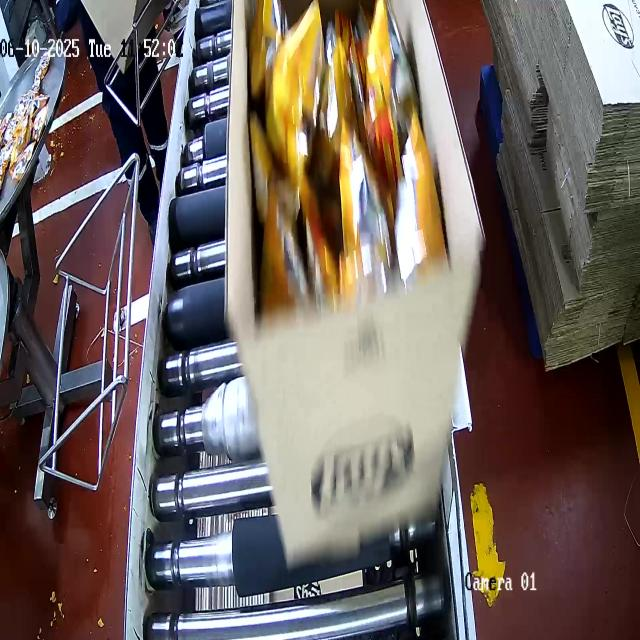FRENCH_CHEESE: (249, 0, 450, 313)
